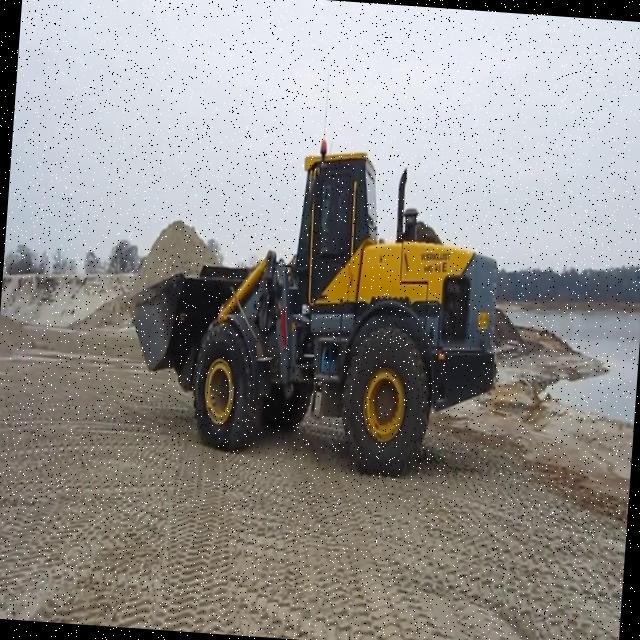Loader: (113, 53, 516, 484)
